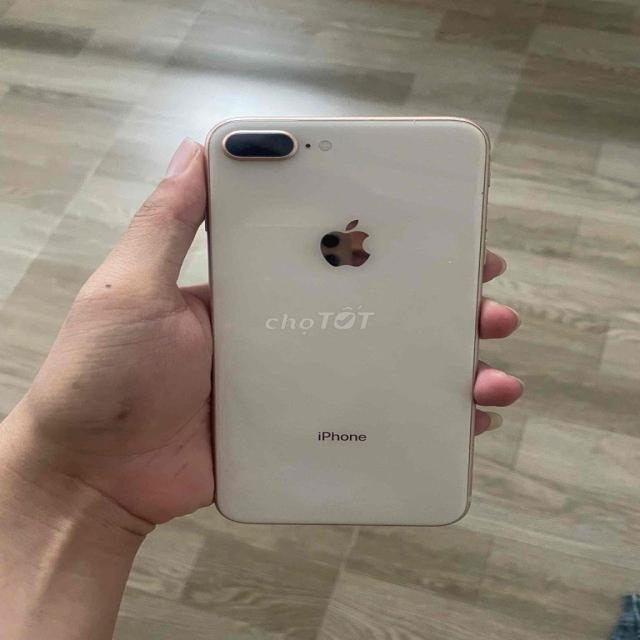scratch: (443, 257, 456, 265), (481, 185, 487, 199)
